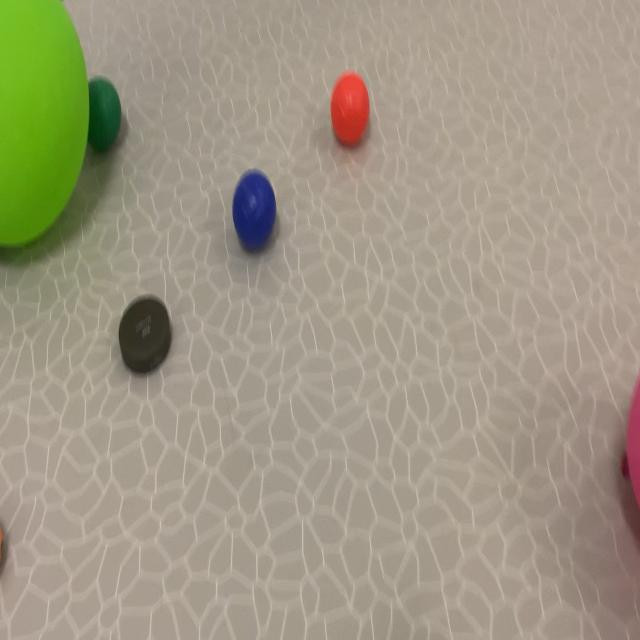7: (319, 24, 389, 225)
blue ball: (90, 41, 402, 265)
green ball: (225, 150, 290, 301)
red ball: (85, 50, 157, 238)
